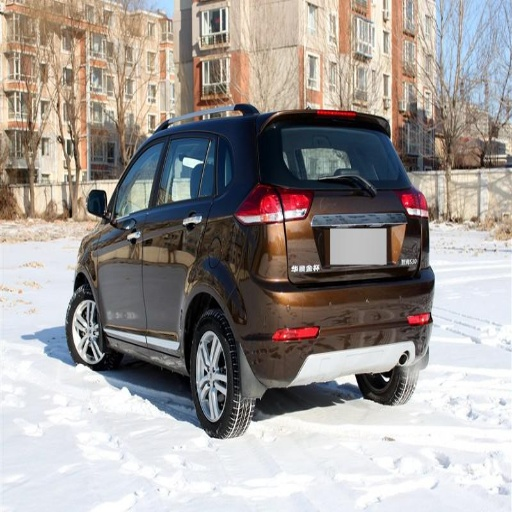back_bumper: (243, 279, 432, 379)
back_glass: (257, 120, 404, 191)
back_left_door: (143, 130, 215, 353)
trunk: (288, 192, 417, 320)
